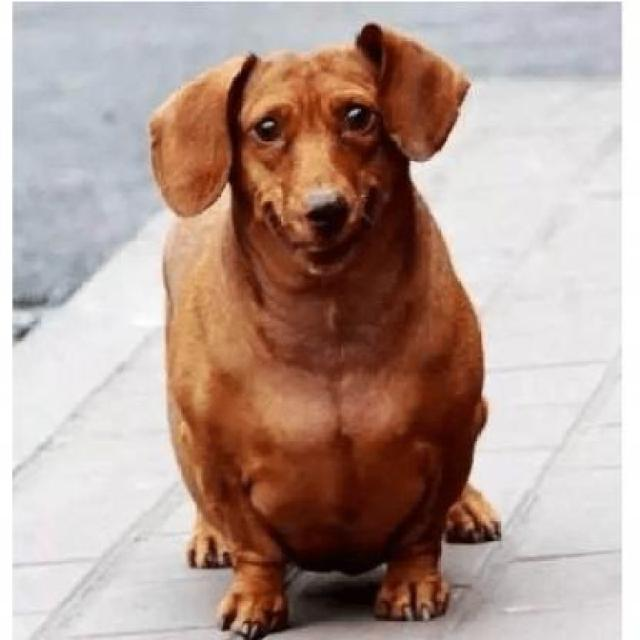Dog: (146, 21, 508, 638)
